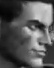kevin: (8, 1, 53, 66)
